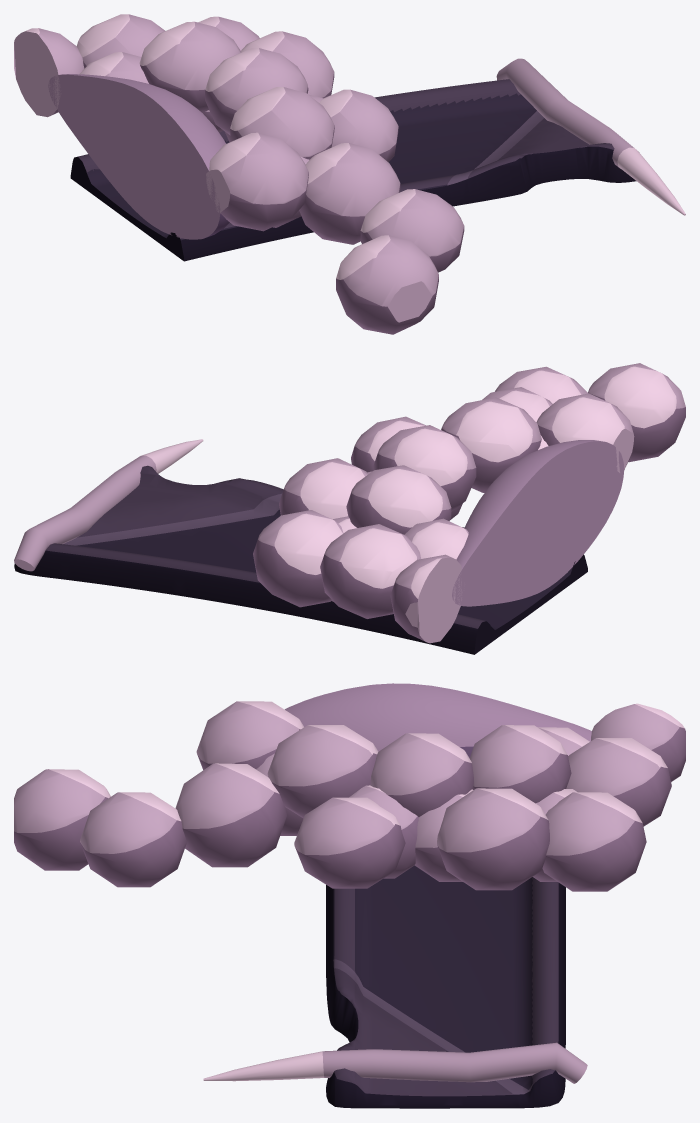
Rendered from grape_wing_r.glb.
The picture shows the model from 3 angles, top to bottom: view 1: azimuth 30°, elevation 25°; view 2: azimuth 150°, elevation 25°; view 3: azimuth 270°, elevation 25°; orthographic projection. The views are drawn at different scales.
Visible parts, largest first — view 1: grape_wing_r; view 2: grape_wing_r; view 3: grape_wing_r.
Boxes of the visible parts, box(x1,y1,x2,y2) form: grape_wing_r: box(14, 14, 685, 334); grape_wing_r: box(14, 363, 685, 654); grape_wing_r: box(14, 683, 685, 1108).
Size of the model in its own units: 23.95 by 8.71 by 28.
